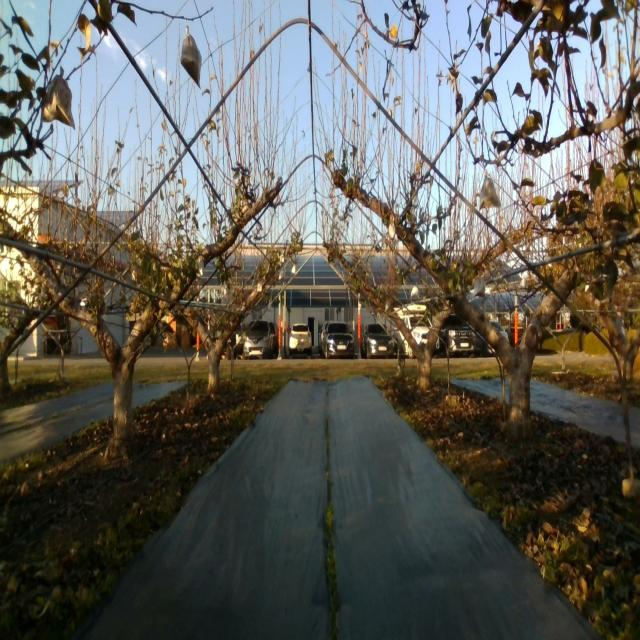pearbags: (40, 75, 74, 129), (180, 35, 201, 89), (478, 178, 502, 211), (473, 278, 486, 298)
